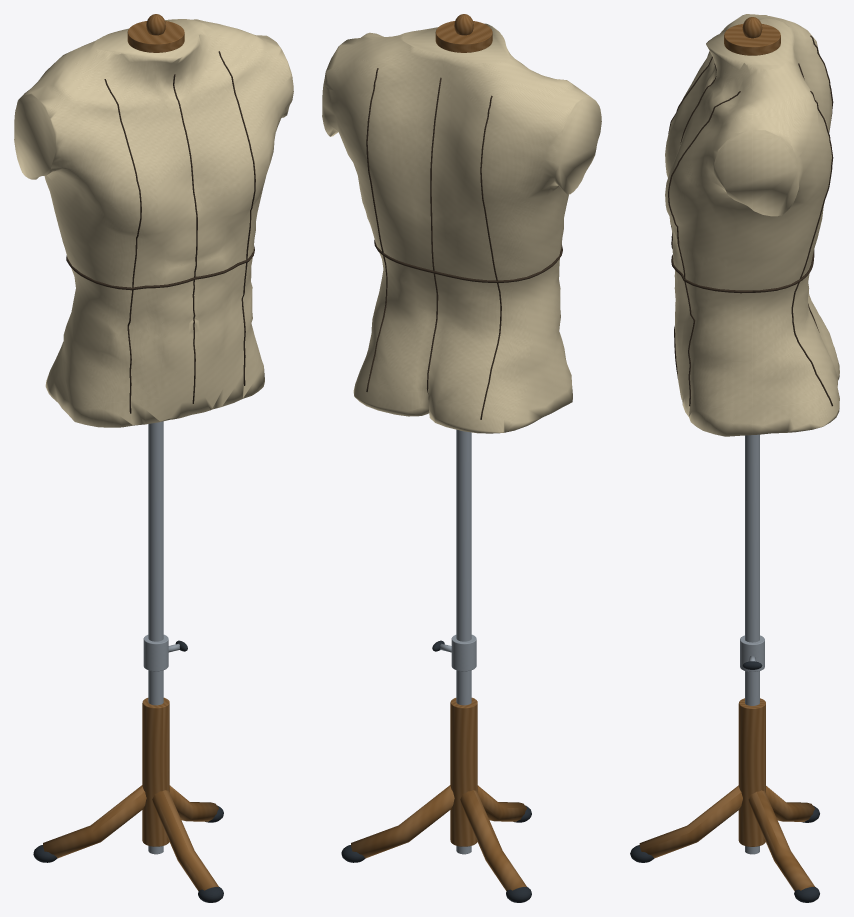
Rendered from mannequin-male.glb.
3 views of the same model, side by side, from view 1: azimuth 30°, elevation 25°; view 2: azimuth 150°, elevation 25°; view 3: azimuth 270°, elevation 25° (orthographic).
Parts seen in each view (by area): view 1: Covered MakeHuman CC0 torso section, Telescoping support shaft, Lower support collar, Attached tripod base leg.001, Attached tripod base leg.002, Seated wood neck cap, Attached tripod base leg, Height clamp sleeve, Fitted vertical tailoring seam.002, Fitted vertical tailoring seam.001, Fitted waist reference tape, Fitted vertical tailoring seam; view 2: Covered MakeHuman CC0 torso section, Telescoping support shaft, Lower support collar, Attached tripod base leg, Attached tripod base leg.001, Seated wood neck cap, Attached tripod base leg.002, Height clamp sleeve, Fitted vertical tailoring seam.005, Fitted waist reference tape, Fitted vertical tailoring seam.004, Fitted vertical tailoring seam.003; view 3: Covered MakeHuman CC0 torso section, Telescoping support shaft, Lower support collar, Attached tripod base leg.002, Attached tripod base leg, Seated wood neck cap, Attached tripod base leg.001, Fitted vertical tailoring seam.001, Height clamp sleeve, Fitted vertical tailoring seam.004, Fitted waist reference tape.
Part boxes in pixels (x1,y1,x2,y2): Covered MakeHuman CC0 torso section: [14, 19, 293, 427]; Telescoping support shaft: [148, 421, 163, 854]; Lower support collar: [142, 697, 169, 846]; Attached tripod base leg.001: [43, 785, 146, 858]; Attached tripod base leg.002: [152, 790, 218, 890]; Seated wood neck cap: [127, 21, 184, 52]; Attached tripod base leg: [169, 785, 218, 821]; Height clamp sleeve: [143, 634, 168, 671]; Fitted vertical tailoring seam.002: [104, 79, 141, 413]; Fitted vertical tailoring seam.001: [218, 51, 255, 385]; Fitted waist reference tape: [66, 246, 254, 290]; Fitted vertical tailoring seam: [173, 74, 197, 403]; Covered MakeHuman CC0 torso section: [322, 23, 601, 433]; Telescoping support shaft: [456, 429, 471, 854]; Lower support collar: [450, 697, 477, 846]; Attached tripod base leg: [351, 785, 454, 858]; Attached tripod base leg.001: [460, 790, 526, 890]; Seated wood neck cap: [435, 21, 492, 52]; Attached tripod base leg.002: [477, 785, 526, 821]; Height clamp sleeve: [451, 634, 476, 671]; Fitted vertical tailoring seam.005: [480, 95, 501, 419]; Fitted waist reference tape: [374, 240, 562, 282]; Fitted vertical tailoring seam.004: [366, 68, 387, 391]; Fitted vertical tailoring seam.003: [427, 77, 441, 393]; Covered MakeHuman CC0 torso section: [665, 14, 839, 436]; Telescoping support shaft: [745, 434, 759, 854]; Lower support collar: [738, 698, 765, 846]; Attached tripod base leg.002: [639, 785, 742, 858]; Attached tripod base leg: [748, 790, 814, 891]; Seated wood neck cap: [724, 23, 780, 55]; Attached tripod base leg.001: [766, 786, 814, 821]; Fitted vertical tailoring seam.001: [668, 91, 740, 406]; Height clamp sleeve: [740, 635, 764, 671]; Fitted vertical tailoring seam.004: [791, 91, 833, 406]; Fitted waist reference tape: [671, 239, 814, 293].
Bounding box in the file's own units: 0.5 × 1.7 × 0.384.
5 materials, 5 textured.
